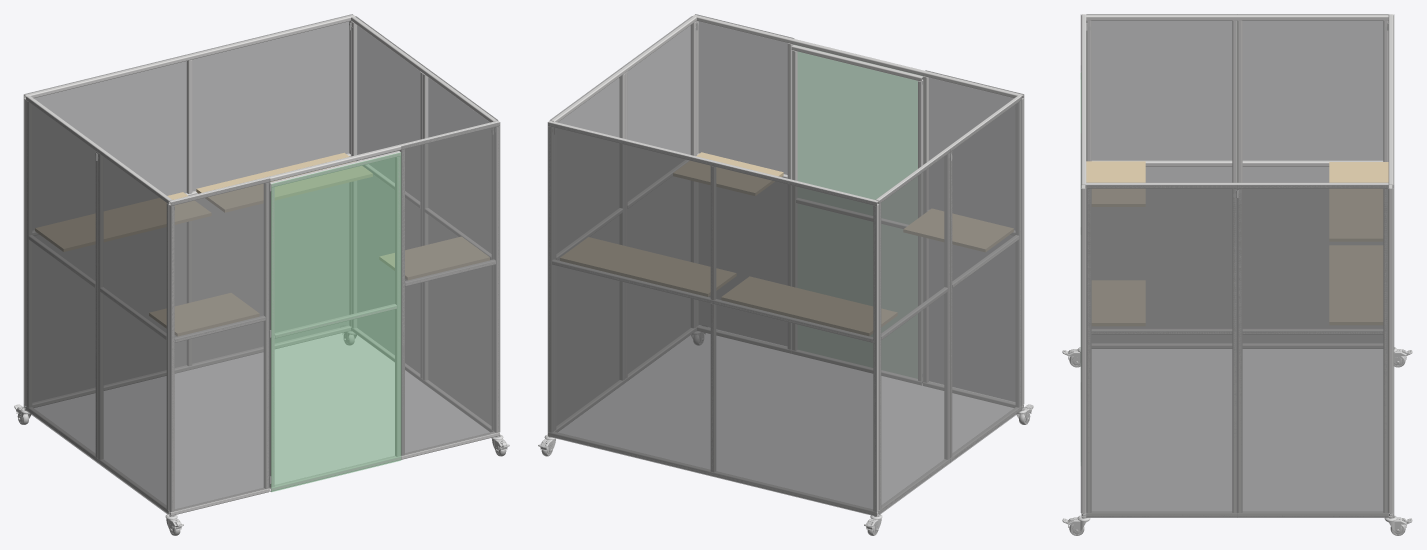
File: ISLA_SIMULACION.glb
3 views of the same model, side by side, from view 1: azimuth 30°, elevation 25°; view 2: azimuth 150°, elevation 25°; view 3: azimuth 270°, elevation 25° (orthographic). The views are drawn at different scales.
Parts seen in each view (by area): view 1: Solid1 (×36); view 2: Solid1 (×36); view 3: Solid1 (×34).
Boxes of the visible parts, left/top/right/bottom form: Solid1 (×36): left=23, top=14, right=500, bottom=515; Solid1 (×36): left=547, top=14, right=1024, bottom=516; Solid1 (×34): left=1080, top=14, right=1394, bottom=517.
Bounding box in the file's own units: 0.013 × 0.0123 × 0.0111.
